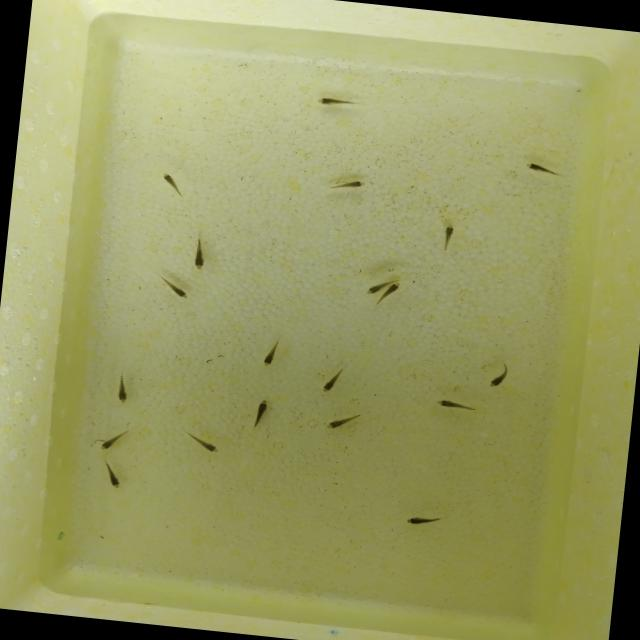fingerling: (396, 504, 459, 534), (321, 402, 375, 436), (175, 424, 227, 456), (94, 456, 136, 494), (423, 390, 479, 418), (510, 156, 570, 182), (321, 172, 381, 198), (183, 232, 217, 276), (429, 218, 468, 256), (94, 421, 136, 456), (150, 274, 200, 303), (105, 364, 138, 407), (480, 358, 518, 395), (310, 90, 366, 115), (255, 332, 288, 374), (316, 359, 353, 396), (152, 167, 190, 202), (244, 394, 276, 434), (384, 278, 408, 296), (362, 284, 384, 298)
